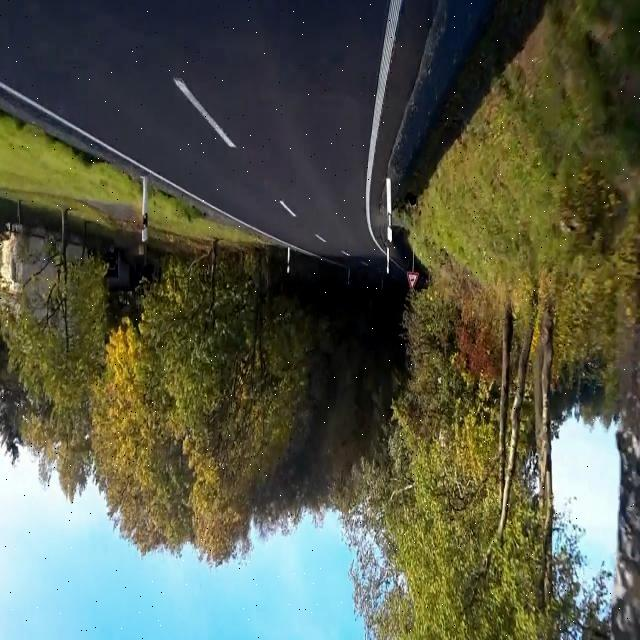lane: (0, 82, 281, 241), (365, 0, 402, 249), (172, 77, 236, 148), (279, 201, 296, 218)
road: (0, 1, 388, 260)
